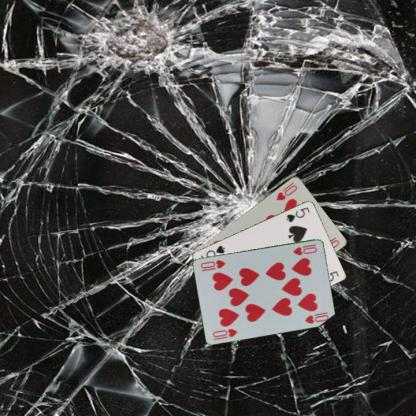10h: (274, 182, 298, 202), (291, 242, 318, 256), (210, 326, 239, 338)
5s: (284, 204, 311, 224)
